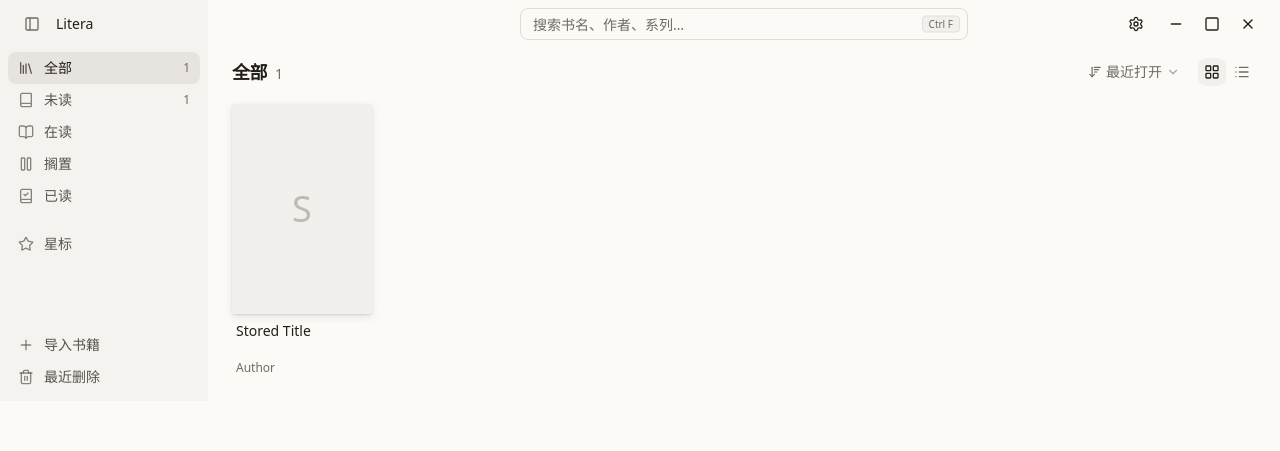
LibraryView › shows import failures in a banner instead of alert
The image size is (1280, 451).
Expected: the text "Stored Title" is shown, [236,321,311,340]
Click the button "导入书籍" at (104, 345), box [8,329,200,361]
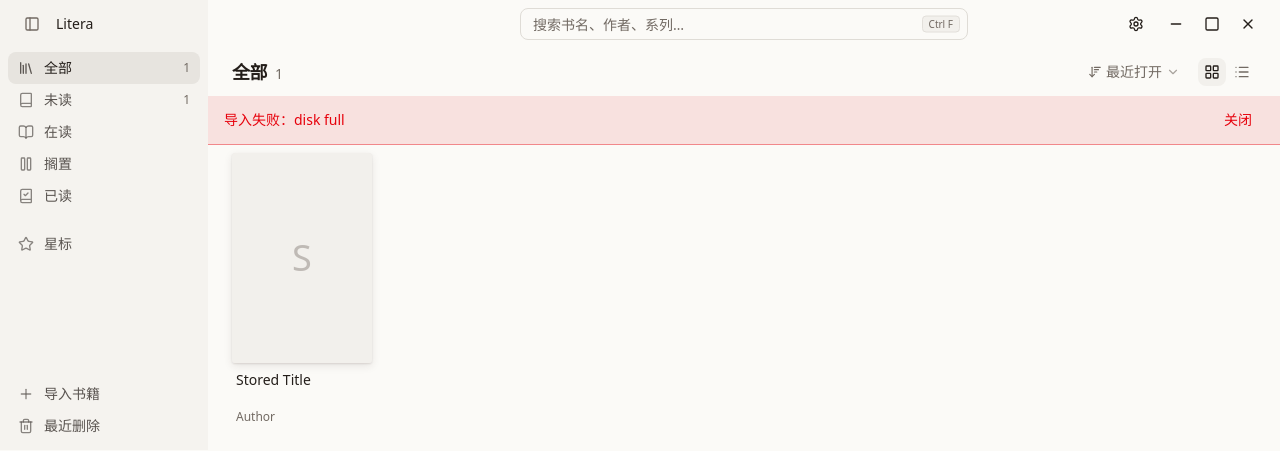
Result: the text "导入失败：disk full" is shown at [224,110,345,129]
